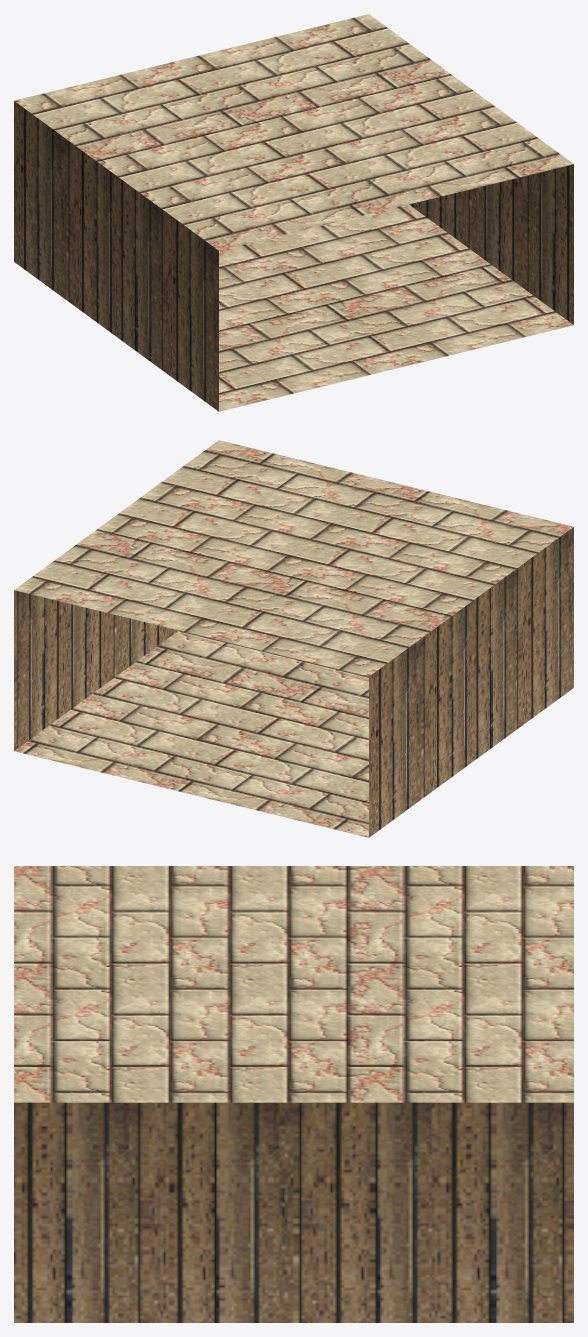
The model's file is test_room_mapped2.obj.
The picture shows the model from 3 angles, top to bottom: view 1: azimuth 30°, elevation 25°; view 2: azimuth 150°, elevation 25°; view 3: azimuth 270°, elevation 25°; orthographic projection. The views are drawn at different scales.
Parts seen in each view (by area): view 1: mesh01; view 2: mesh01; view 3: mesh01.
Boxes of the visible parts, x1=… form: mesh01: x1=14, y1=14, x2=573, y2=411; mesh01: x1=14, y1=440, x2=573, y2=837; mesh01: x1=14, y1=866, x2=573, y2=1322.
Size of the model in its own units: 1325 by 574 by 1325.
Materials: 1 (1 with a texture image).
